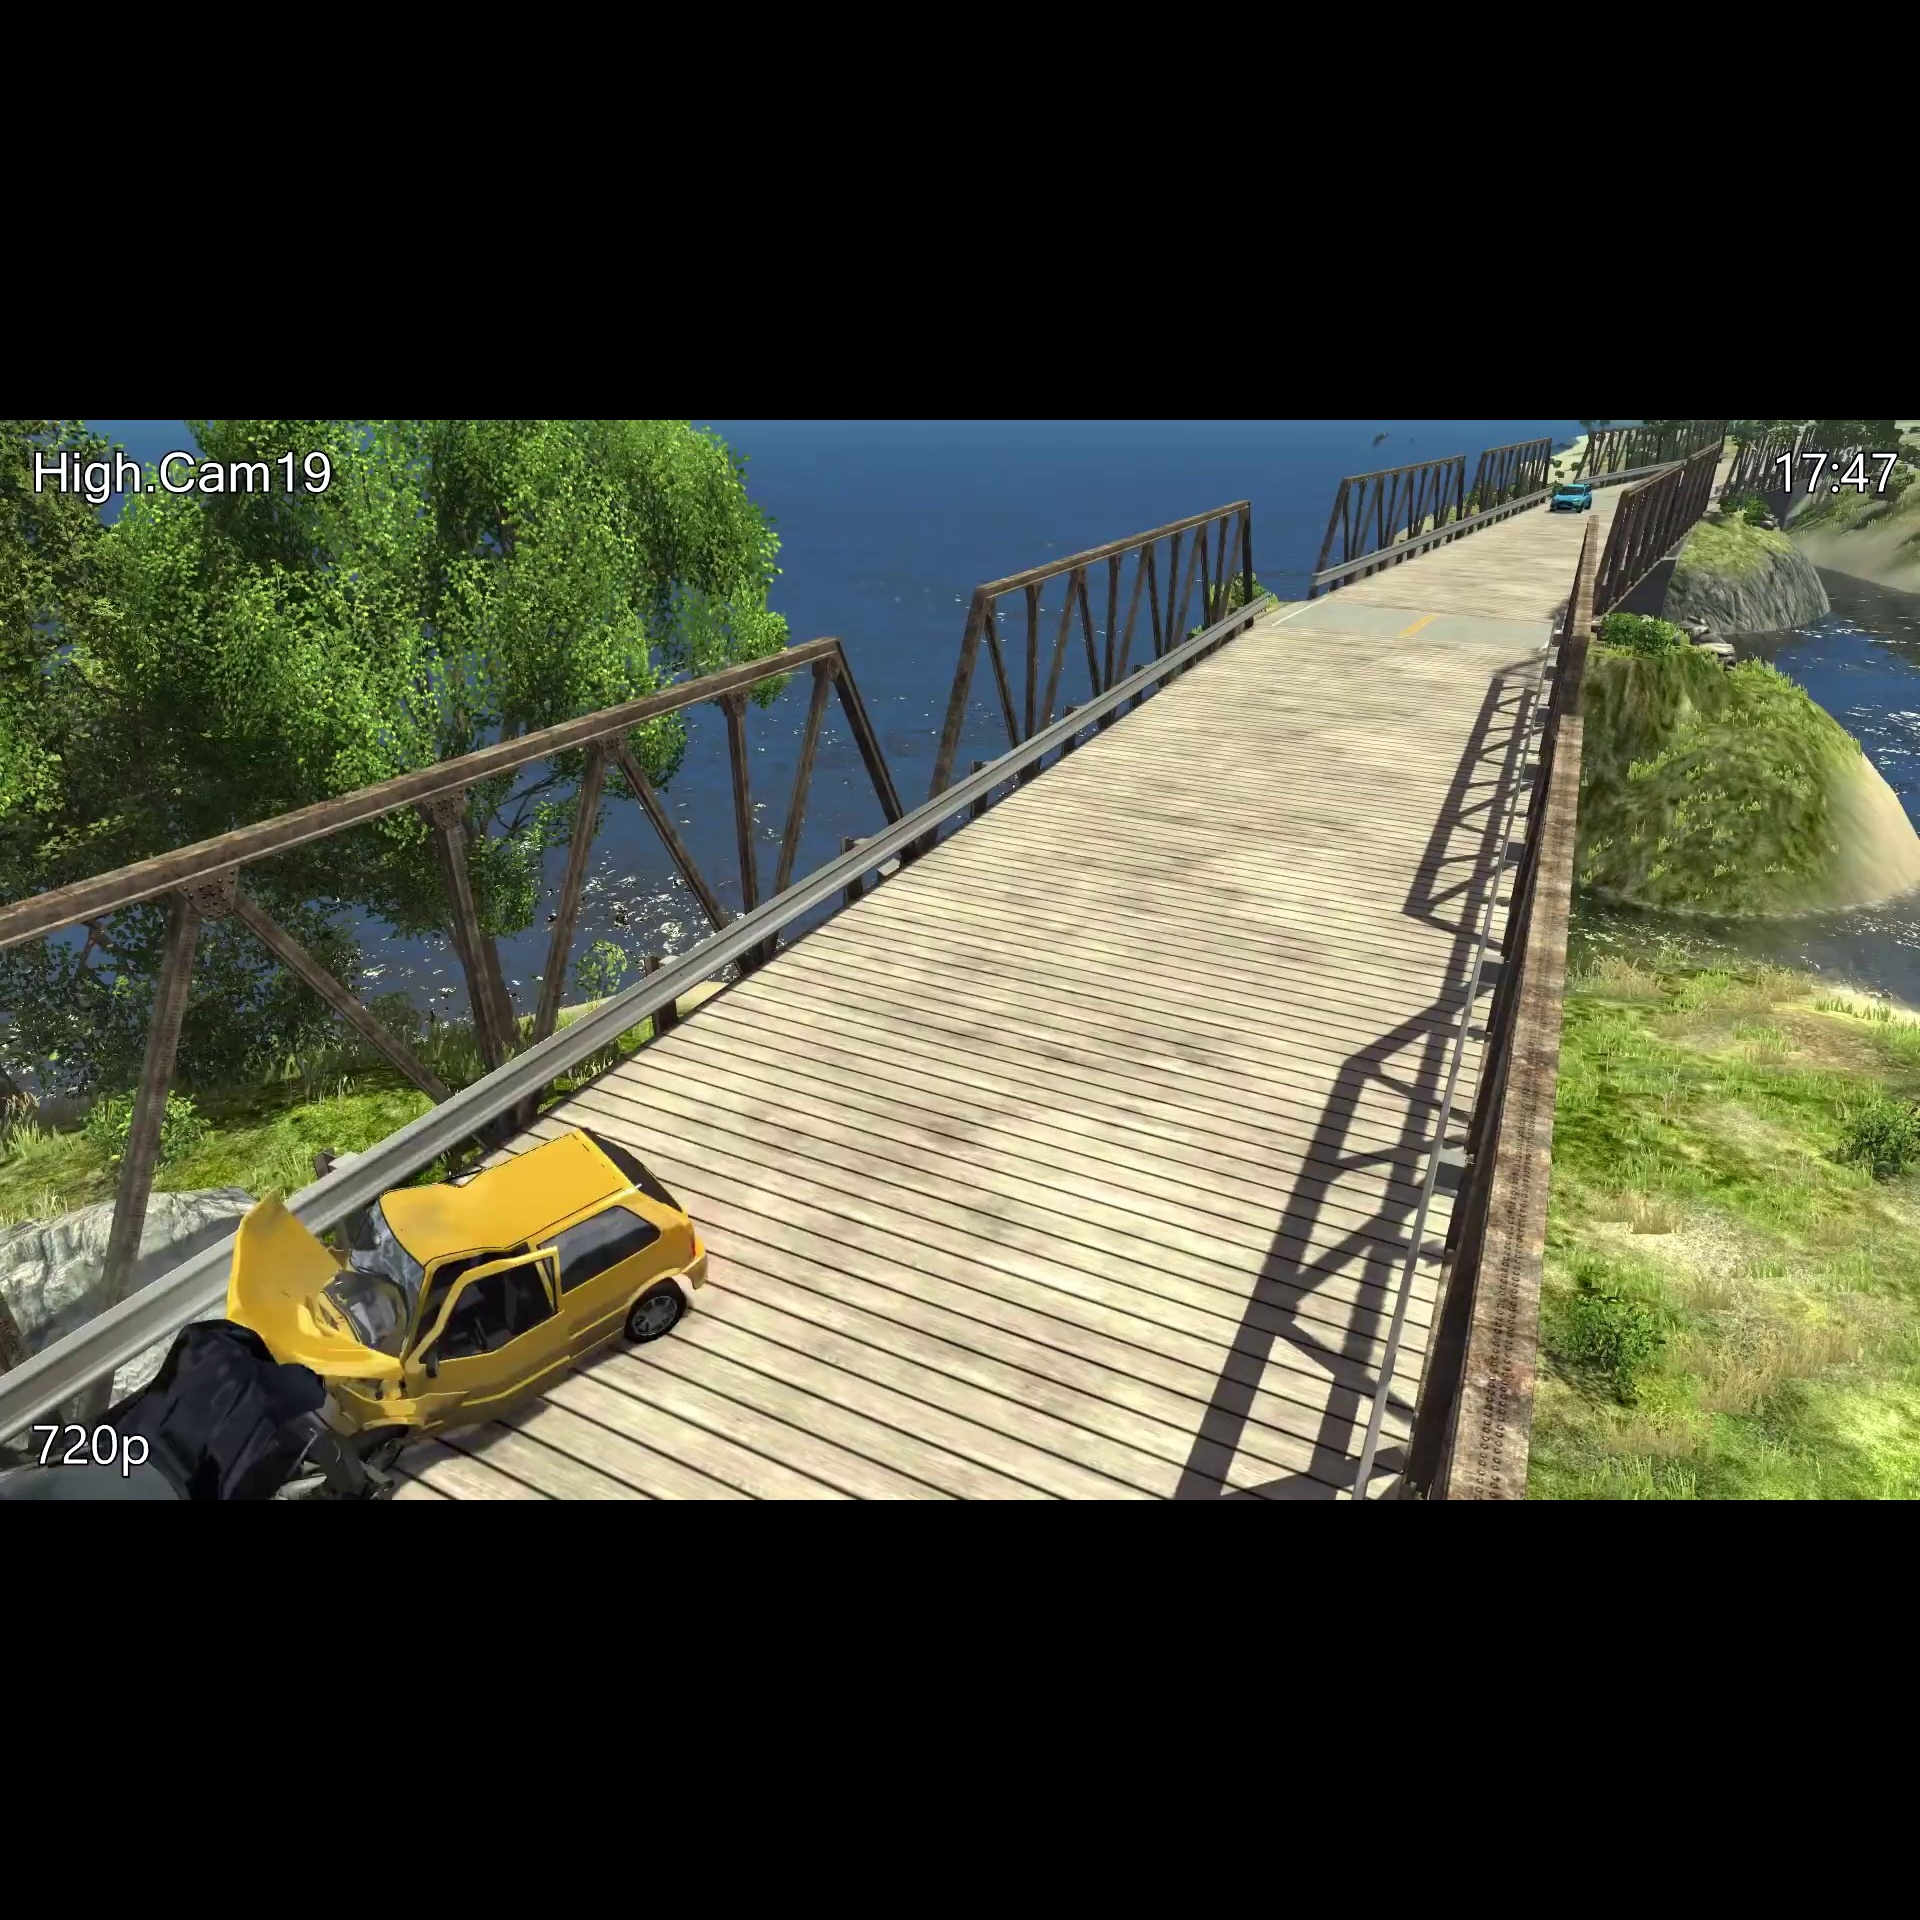vehicle: (229, 1099, 730, 1461), (1547, 478, 1598, 520)
